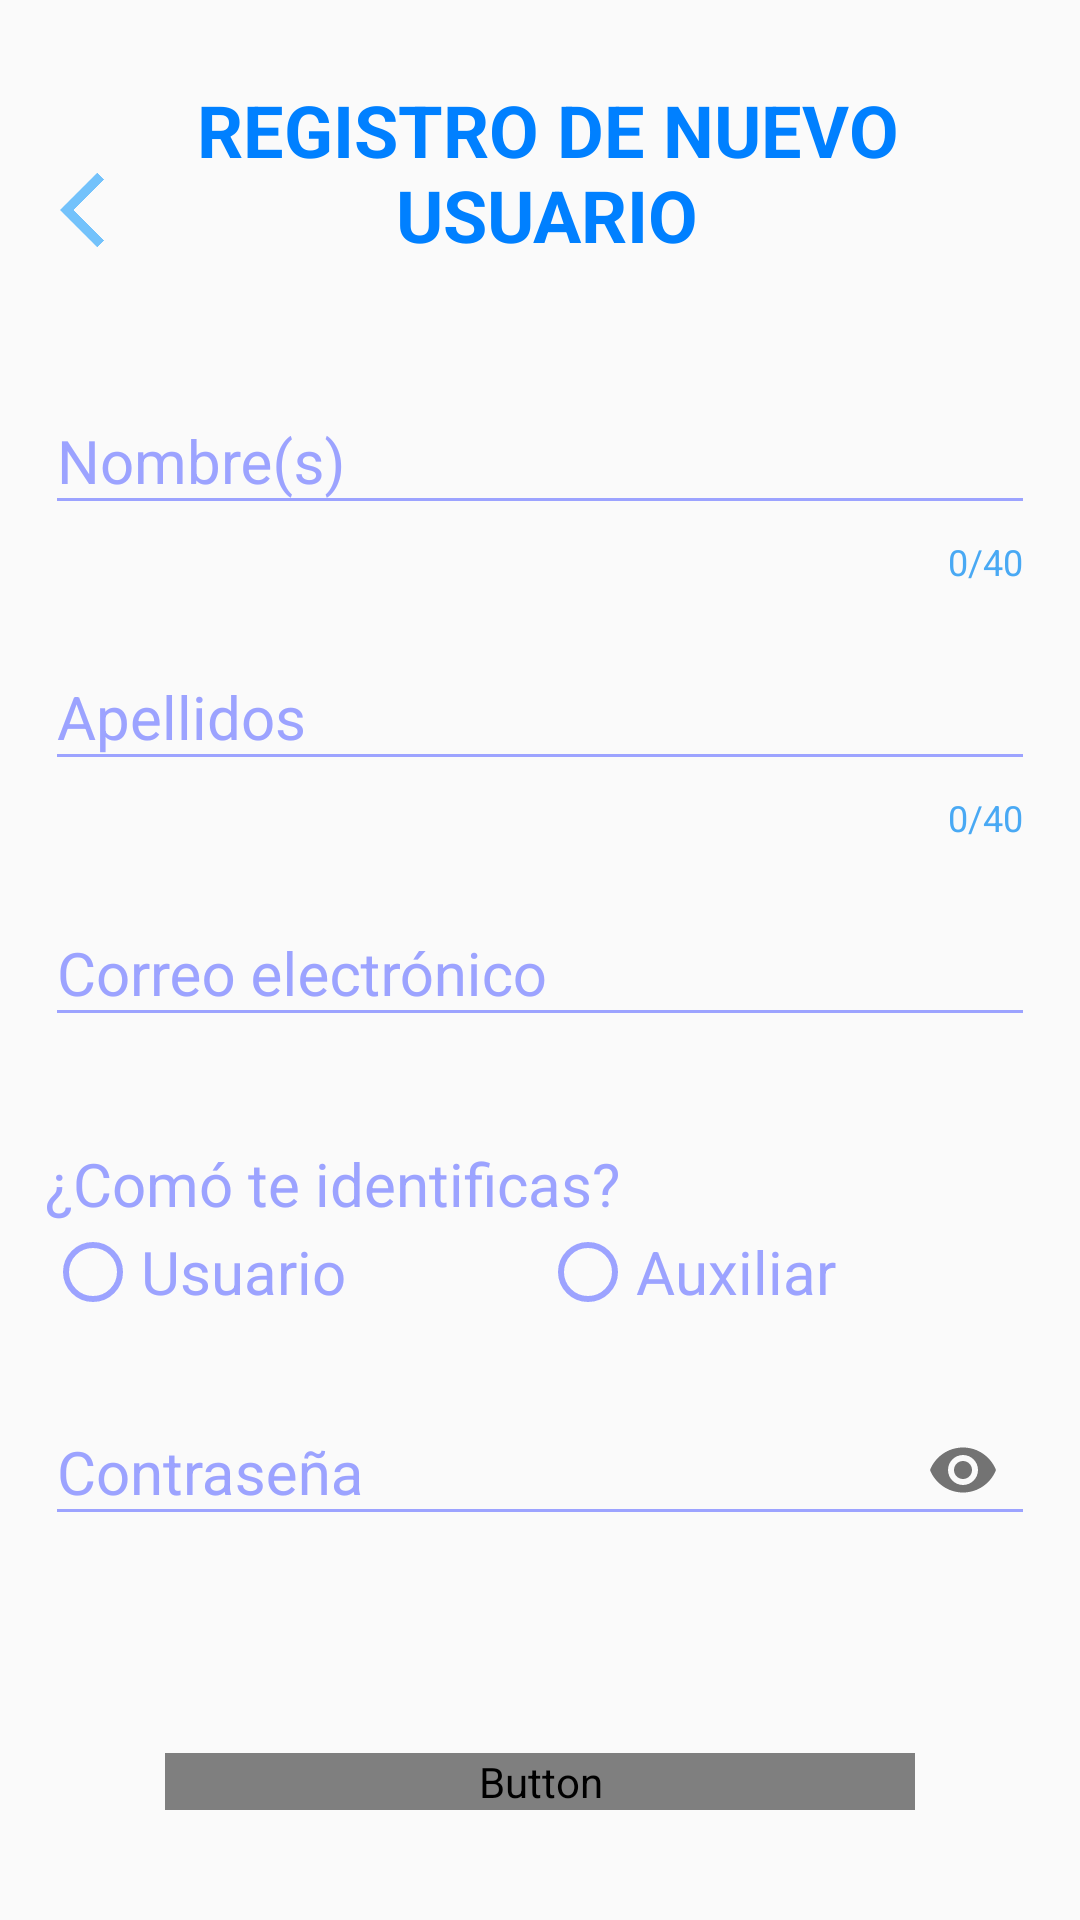

Where icons sit on this 1080px x 1920px app screen, as [x1, y1, x2, y2]:
arrow back: [60, 173, 104, 247]
